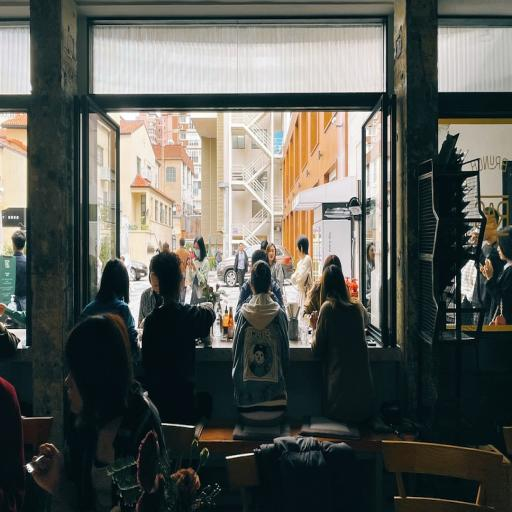face: (65, 373, 82, 415), (484, 215, 497, 239)
